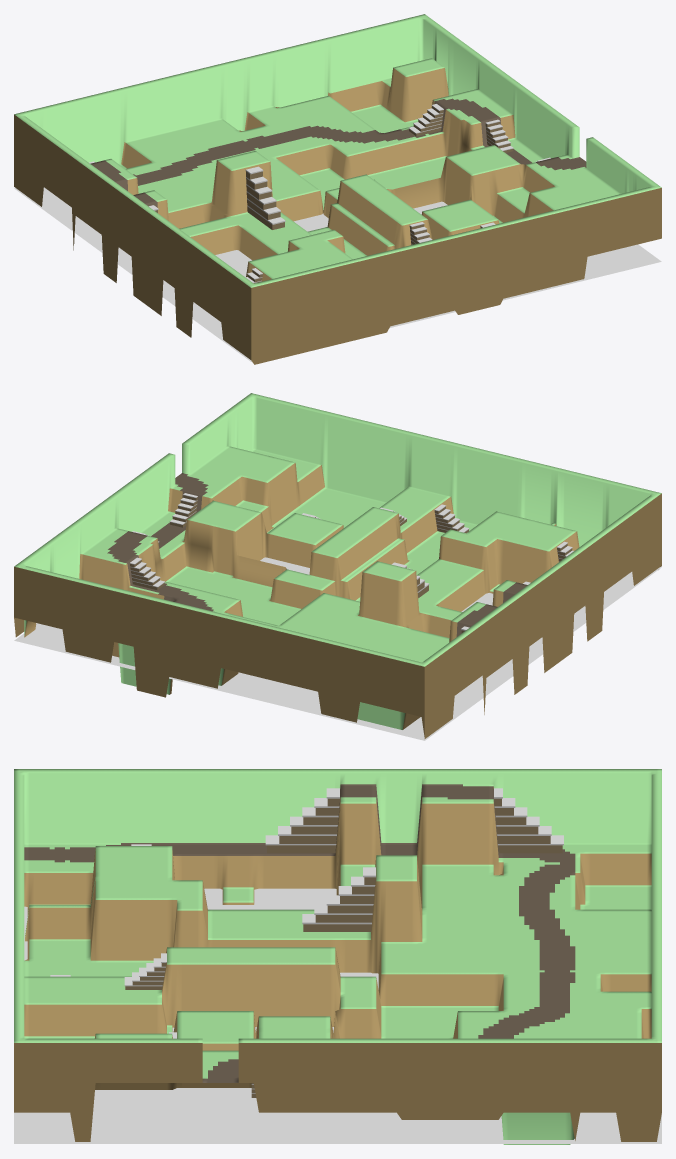
File: LEVEL_VILLAGE.fbx
The picture shows the model from 3 angles, top to bottom: view 1: azimuth 30°, elevation 25°; view 2: azimuth 150°, elevation 25°; view 3: azimuth 270°, elevation 25°; orthographic projection. The views are drawn at different scales.
Visible parts, largest first — view 1: Landscape.000, Plane, Stairs.001, Stairs.004, Stairs.005; view 2: Landscape.000, Plane, Stairs.004, Stairs.009, Stairs.006; view 3: Landscape.000, Plane, Stairs, Stairs.001, Stairs.003, Stairs.007.
Boxes of the visible parts, x1=… form: Landscape.000: x1=14, y1=14, x2=661, y2=364; Plane: x1=14, y1=187, x2=661, y2=361; Stairs.001: x1=245, y1=166, x2=285, y2=229; Stairs.004: x1=408, y1=104, x2=443, y2=136; Stairs.005: x1=485, y1=119, x2=513, y2=152; Landscape.000: x1=14, y1=393, x2=661, y2=738; Plane: x1=14, y1=557, x2=661, y2=740; Stairs.004: x1=129, y1=557, x2=164, y2=590; Stairs.009: x1=434, y1=504, x2=469, y2=533; Stairs.006: x1=169, y1=493, x2=197, y2=527; Landscape.000: x1=14, y1=769, x2=661, y2=1144; Plane: x1=14, y1=888, x2=661, y2=1143; Stairs: x1=265, y1=788, x2=339, y2=853; Stairs.001: x1=302, y1=867, x2=375, y2=931; Stairs.003: x1=494, y1=788, x2=563, y2=853; Stairs.007: x1=124, y1=953, x2=166, y2=989.
Size of the model in its own units: 1600 by 349 by 1600.
